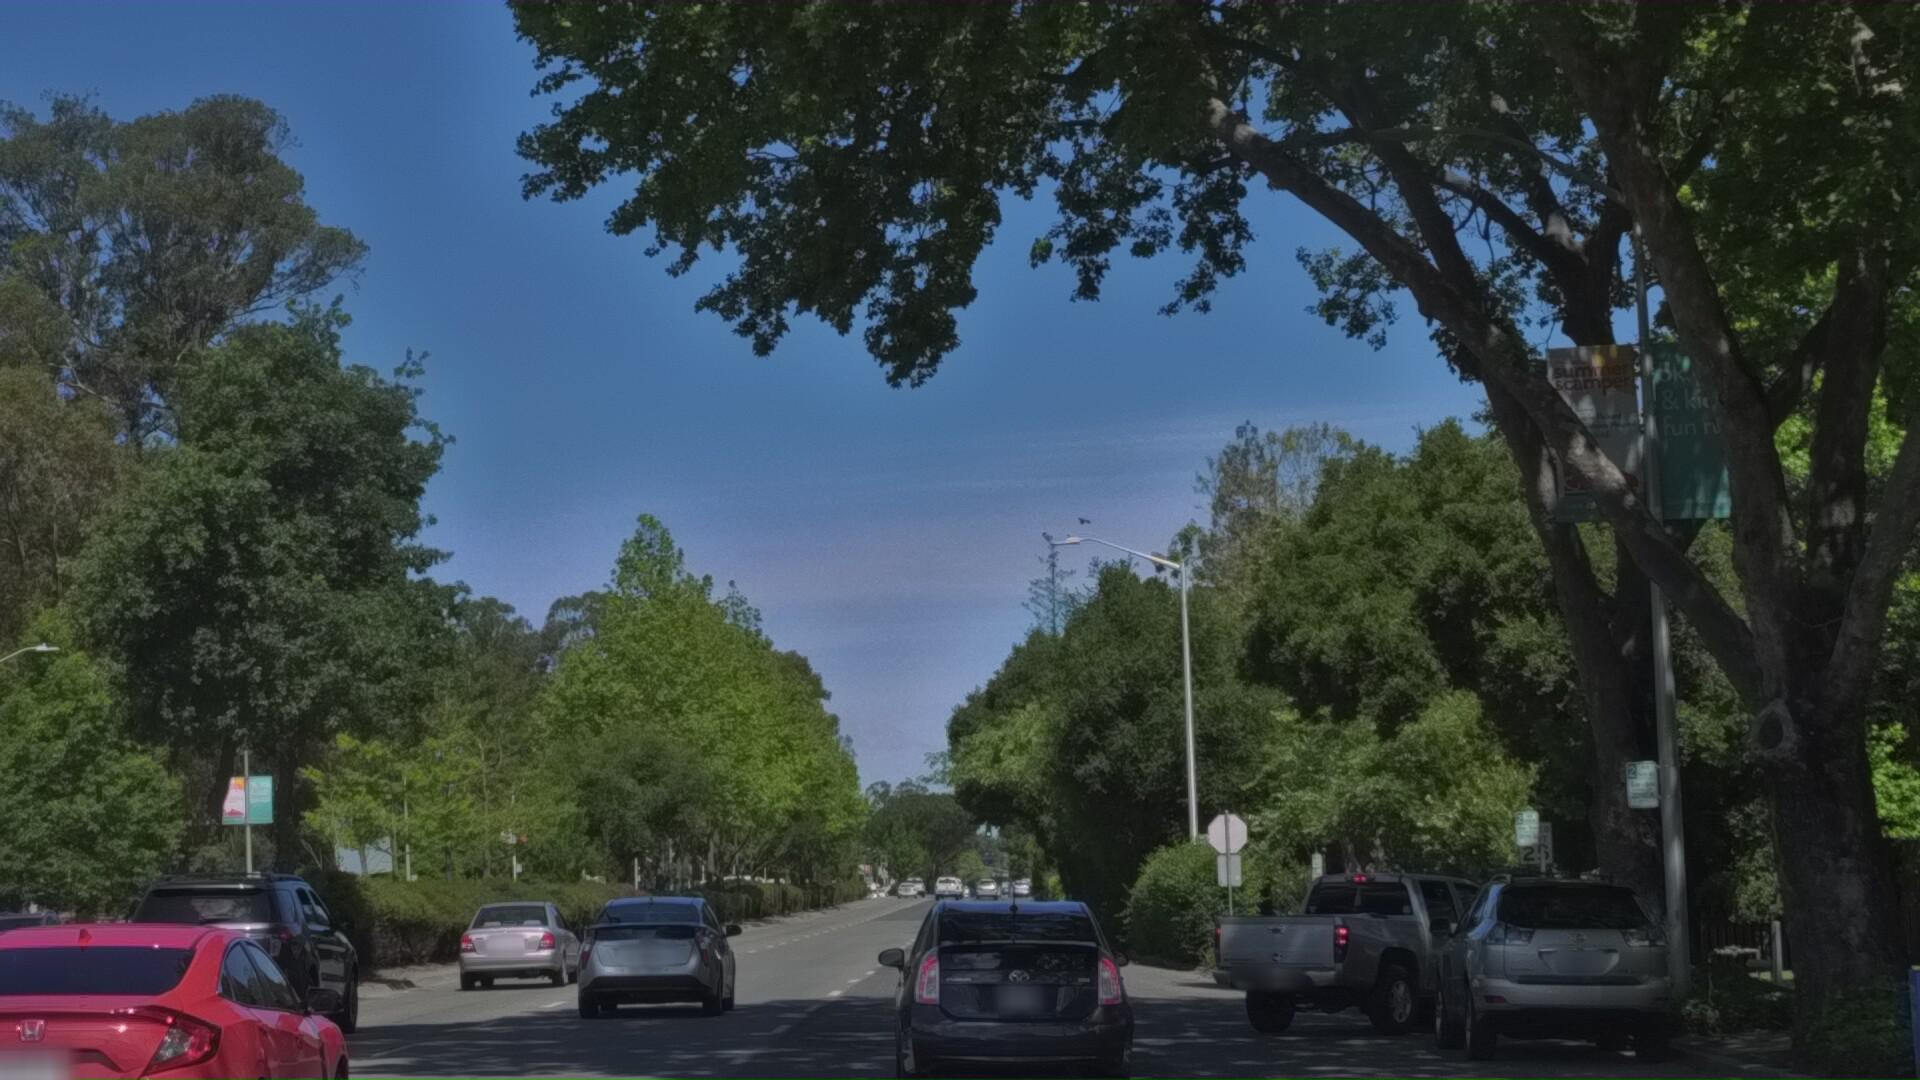car: (1179, 935, 1607, 1080), (0, 952, 376, 1080), (1415, 939, 1700, 1080), (127, 938, 393, 1080), (872, 963, 1168, 1080), (564, 972, 753, 1080), (455, 976, 599, 1080), (0, 1004, 9, 1080)
